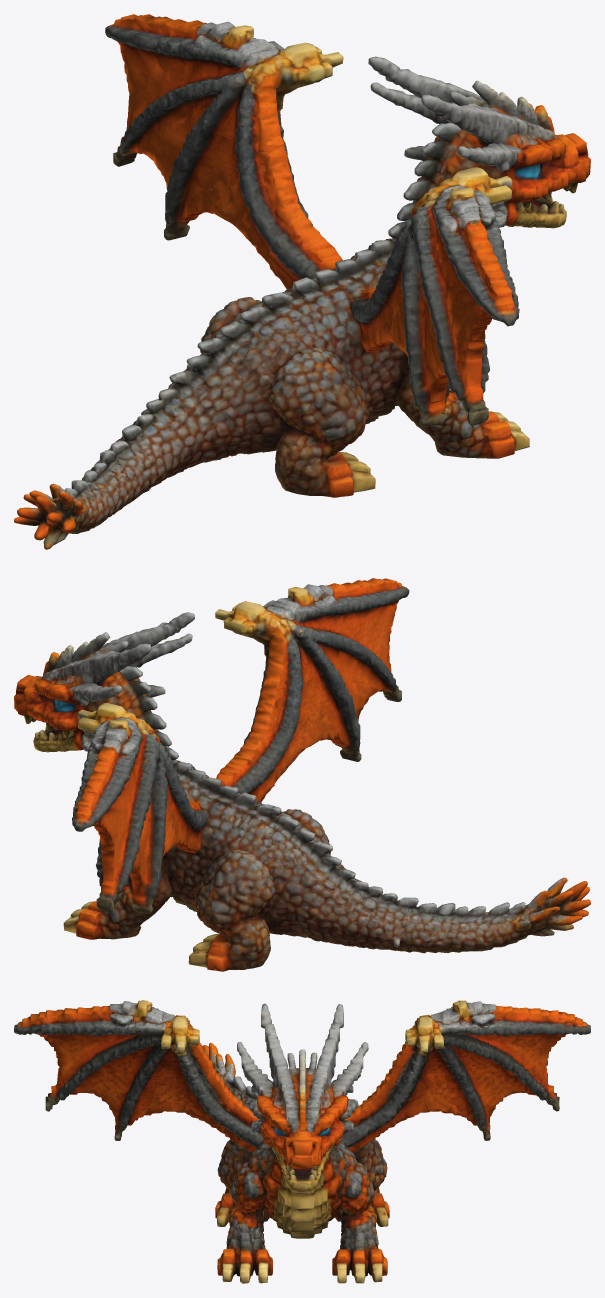
Rendered from dragonos.glb.
The picture shows the model from 3 angles, top to bottom: view 1: azimuth 30°, elevation 25°; view 2: azimuth 150°, elevation 25°; view 3: azimuth 270°, elevation 25°; orthographic projection. The views are drawn at different scales.
Parts seen in each view (by area): view 1: tripo_node_4d58e5ba-ef71-47ae-b6df-03c53f089f0e; view 2: tripo_node_4d58e5ba-ef71-47ae-b6df-03c53f089f0e; view 3: tripo_node_4d58e5ba-ef71-47ae-b6df-03c53f089f0e.
Part boxes in pixels (x1,y1,x2,y2): tripo_node_4d58e5ba-ef71-47ae-b6df-03c53f089f0e: (14, 14, 590, 549); tripo_node_4d58e5ba-ef71-47ae-b6df-03c53f089f0e: (14, 578, 590, 971); tripo_node_4d58e5ba-ef71-47ae-b6df-03c53f089f0e: (14, 1000, 590, 1283).
Bounding box in the file's own units: 0.9138 × 0.481 × 0.9995.
Materials: 1 (1 with a texture image).
